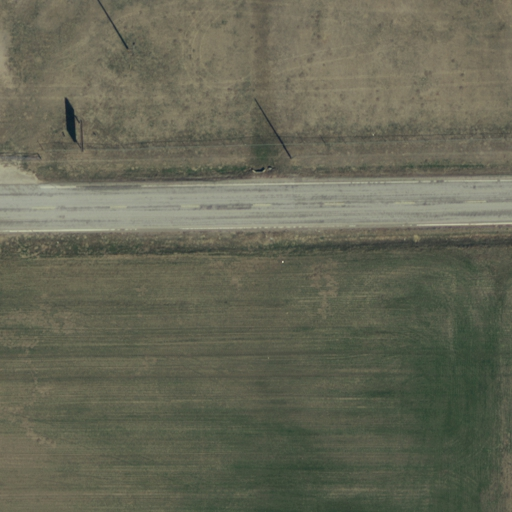DT: (121, 39, 140, 62), (282, 147, 300, 171)
